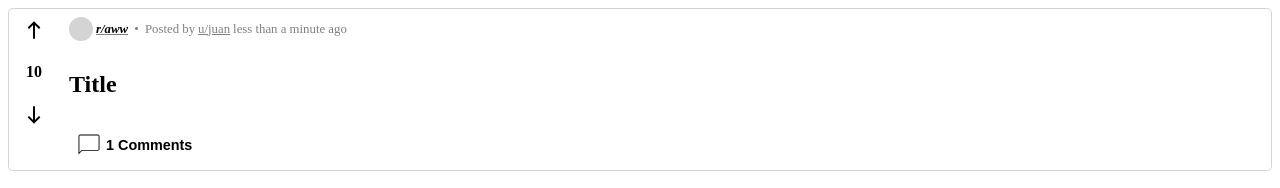
Post previews › Pressing downvote updates number and changes icon color
Click the 2nd button with test id "icon-link" at [34, 115], box [18,104,50,126]
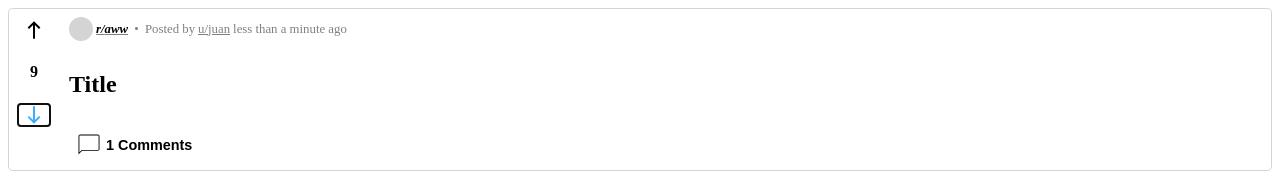
Result: the text with test id "votes-display" reads "9" at [30,63,38,80]
